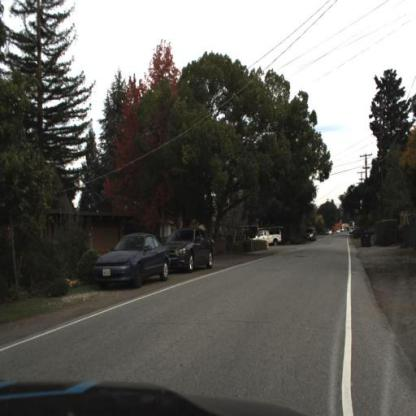car: (93, 230, 172, 288), (168, 228, 217, 274), (251, 226, 286, 250)
